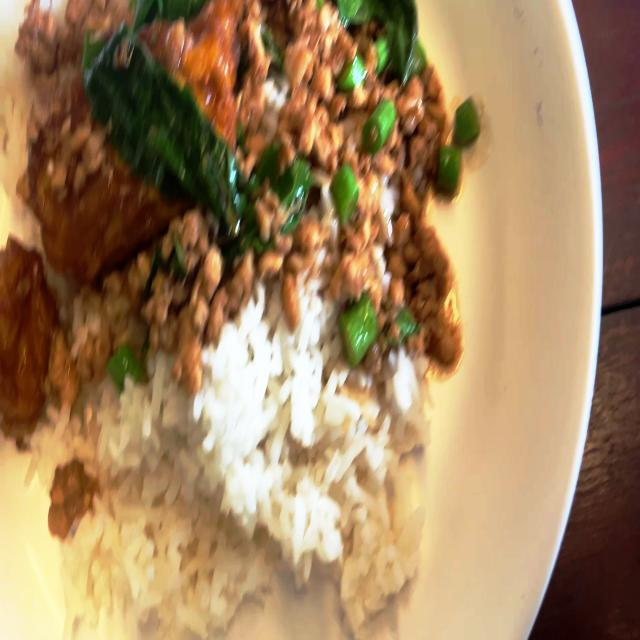fried_tofo: (47, 6, 226, 272), (0, 237, 54, 418)
minced_pork: (241, 0, 483, 359), (56, 236, 240, 380)
rice: (100, 363, 443, 612)
stir_fried_basil: (0, 0, 483, 616)
